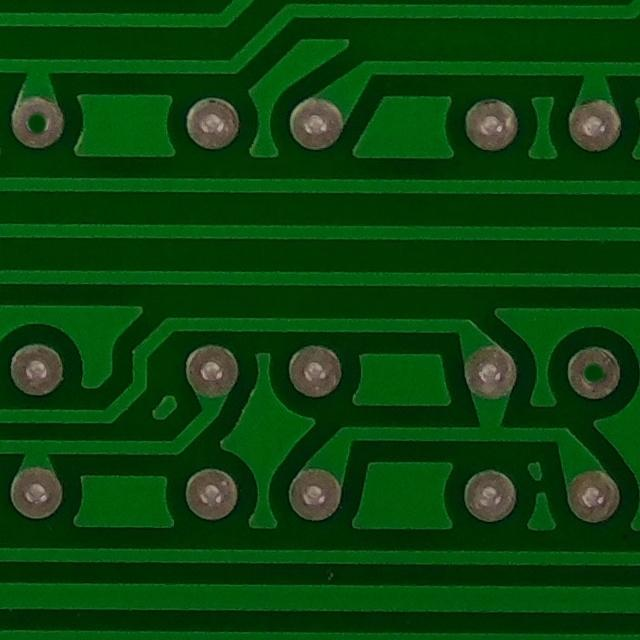missing_hole: (562, 334, 626, 414), (9, 92, 67, 155)
